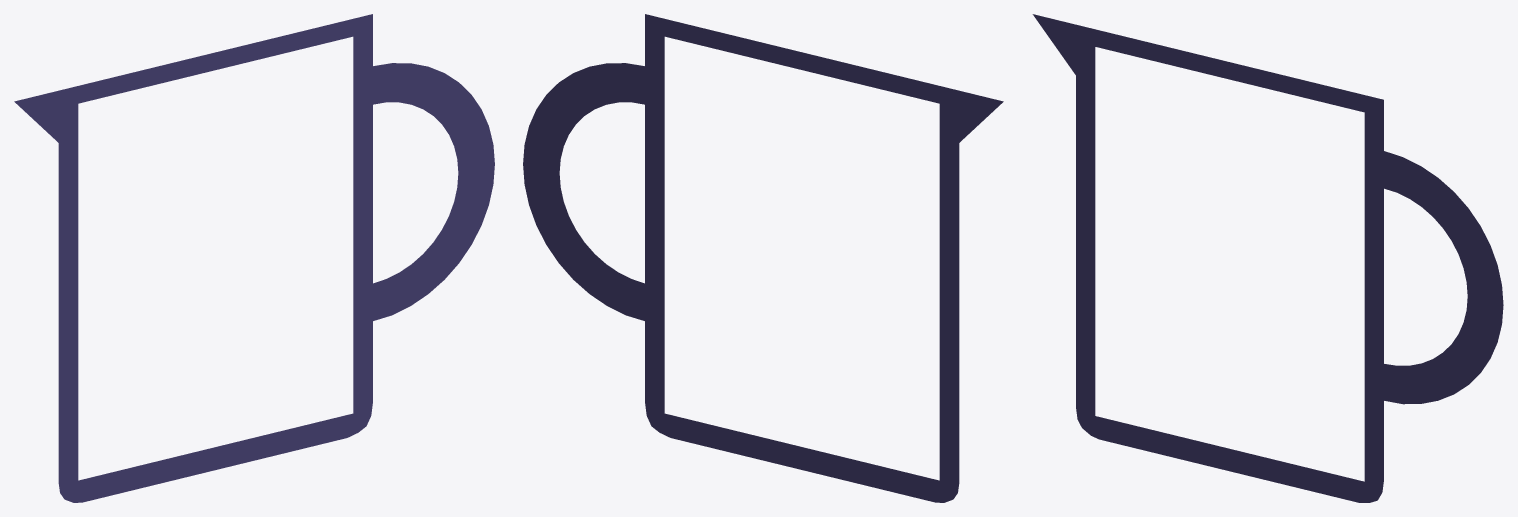
File: brocca.fbx
The picture shows the model from 3 angles, left to right: view 1: azimuth 30°, elevation 25°; view 2: azimuth 150°, elevation 25°; view 3: azimuth 330°, elevation 25°; orthographic projection. The views are drawn at different scales.
Parts seen in each view (by area): view 1: brocca; view 2: brocca; view 3: brocca.
Part boxes in pixels (bbox=[...]): brocca: bbox=[14, 14, 494, 502]; brocca: bbox=[523, 14, 1003, 502]; brocca: bbox=[1032, 14, 1503, 502].
Bounding box in the file's own units: 588 × 488 × 4.58e-05.
